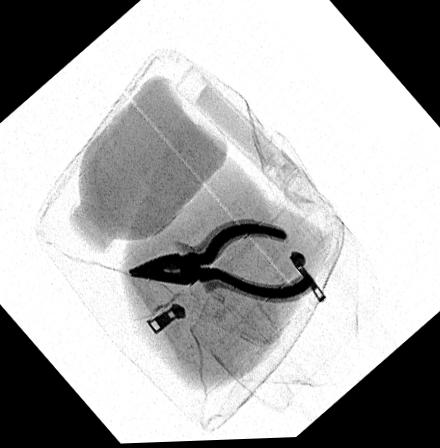Pliers: (127, 222, 318, 306)
